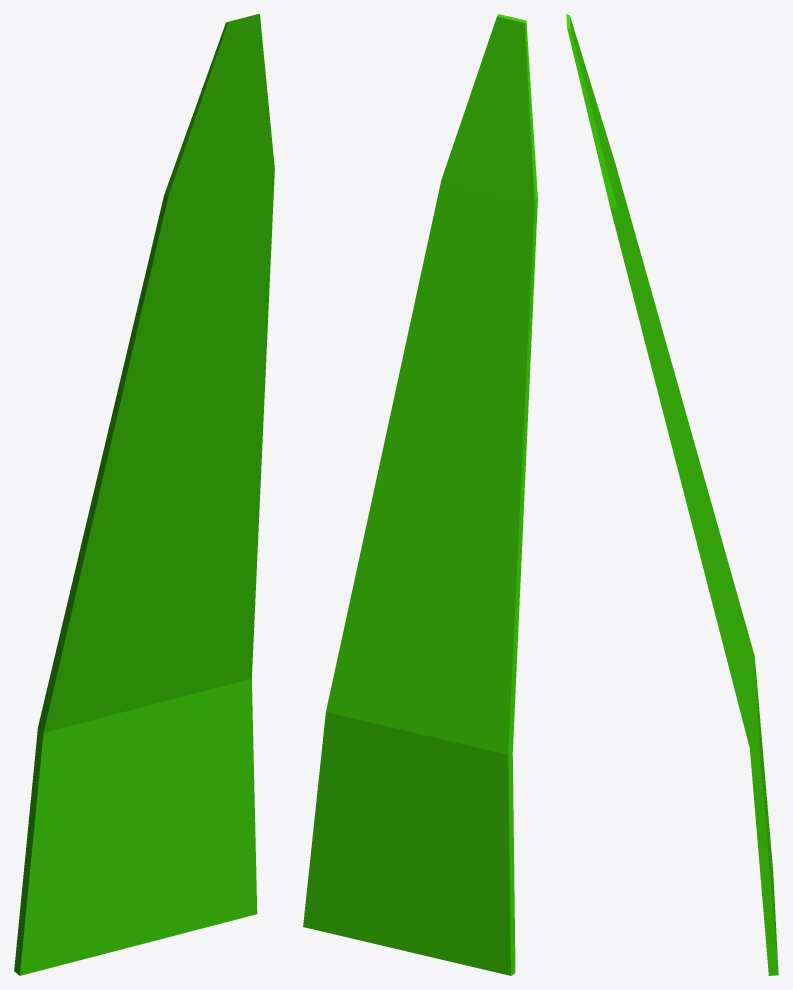
File: Hierba6.fbx
3 views of the same model, side by side, from view 1: azimuth 30°, elevation 25°; view 2: azimuth 150°, elevation 25°; view 3: azimuth 270°, elevation 25° (orthographic). The views are drawn at different scales.
Visible parts, largest first — view 1: Plane.011; view 2: Plane.011; view 3: Plane.011.
Part boxes in pixels (bbox=[...]): Plane.011: bbox=[14, 14, 274, 975]; Plane.011: bbox=[303, 14, 537, 975]; Plane.011: bbox=[566, 14, 778, 975].
Bounding box in the file's own units: 5.16 × 20.69 × 4.42.
